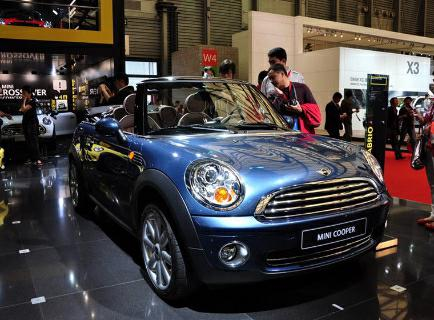MINI: (69, 57, 391, 285)
